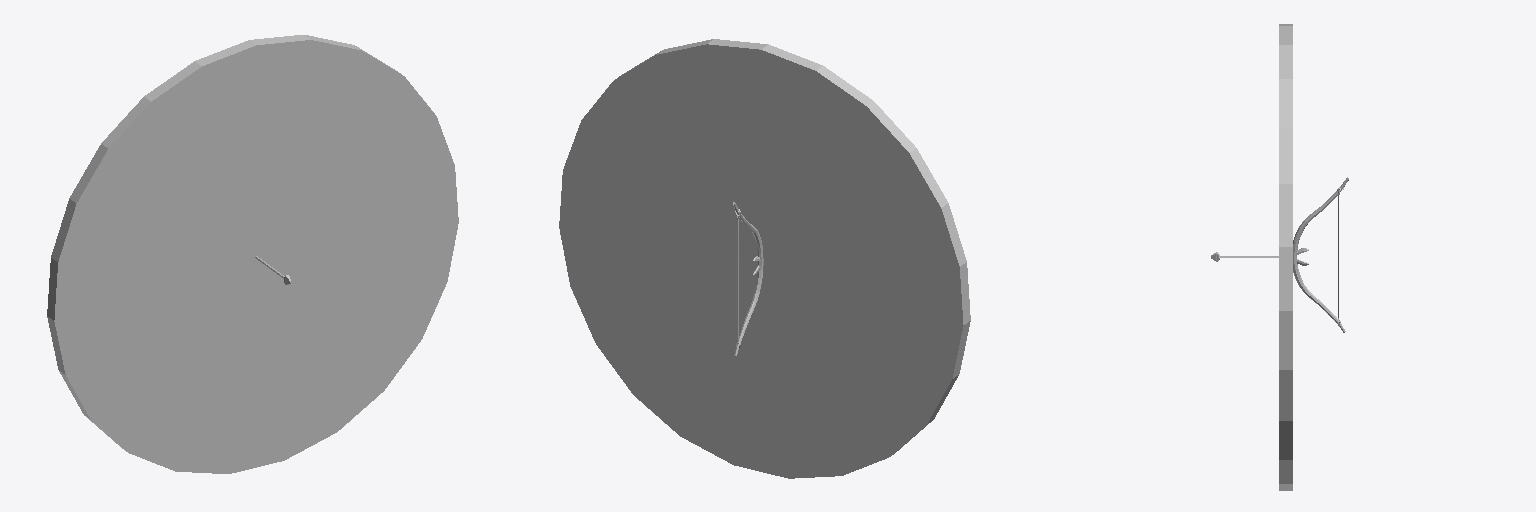
The model's file is target16.obj.
3 views of the same model, side by side, from view 1: azimuth 30°, elevation 25°; view 2: azimuth 150°, elevation 25°; view 3: azimuth 270°, elevation 25° (orthographic).
Parts seen in each view (by area): view 1: Circle; view 2: Circle, NurbsPath_Mesh; view 3: Circle, NurbsPath_Mesh.
Boxes of the visible parts, <box> form: Circle: <box>47,35,458,473</box>; Circle: <box>559,39,970,478</box>; NurbsPath_Mesh: <box>733,202,763,355</box>; Circle: <box>1279,24,1292,490</box>; NurbsPath_Mesh: <box>1293,177,1348,332</box>.
Size of the model in its own units: 31.93 by 31.85 by 9.48.